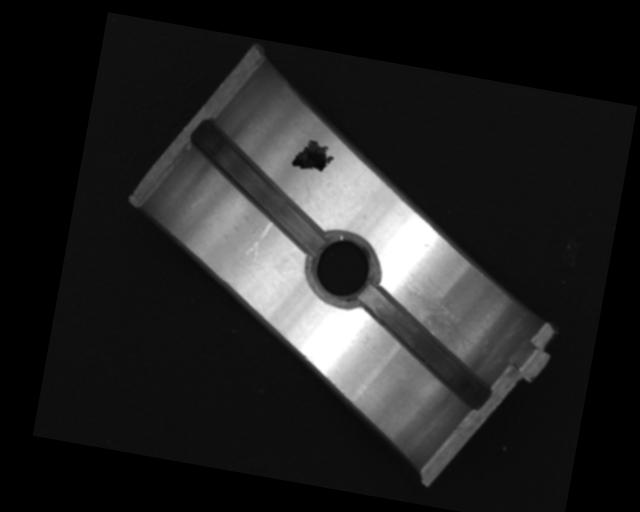blot: (291, 137, 337, 174)
gap: (176, 119, 338, 256), (345, 287, 507, 412)
hole: (302, 227, 384, 313)
nick: (243, 216, 274, 264)
scratch: (394, 284, 483, 356)
